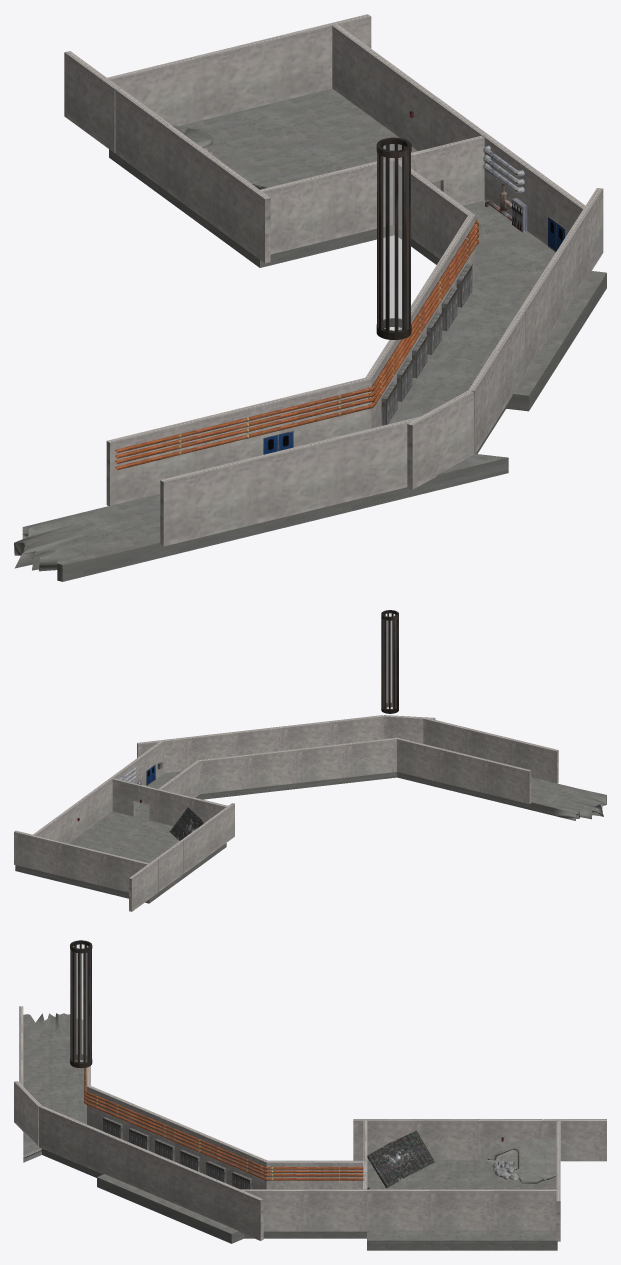
The model's file is ACT3 Map.fbx.
3 views of the same model, one above another, from view 1: azimuth 30°, elevation 25°; view 2: azimuth 150°, elevation 25°; view 3: azimuth 270°, elevation 25° (orthographic). The views are drawn at different scales.
Parts seen in each view (by area): view 1: corridorwall.023, corridor_floor.002, corridorwall.005, corridorwall.022, corridorwall.009, corridorwall.004, corridor_floor.011, Cylinder, corridorwall.006, corridorwall.035, corridor_floor.008, corridor_floor.005 (+19 smaller); view 2: corridorwall.020, corridorwall.022, corridor_floor.002, corridorwall.005, corridorwall.023, corridorwall.021, corridorwall.035, corridor_floor.011, corridorwall.006, corridorwall.004, Cylinder, corridorwall.009 (+10 smaller); view 3: corridor_floor.002, corridorwall.006, corridorwall.035, corridorwall.020, corridorwall.004, corridorwall.021, corridor_floor.010, Cylinder, corridorwall.034, corridorwall.015, corridor_floor.014, corridorwall.014 (+12 smaller).
Boxes of the visible parts, bbox=[...] form: corridorwall.023: bbox=[160, 416, 420, 546]; corridor_floor.002: bbox=[109, 88, 440, 267]; corridorwall.005: bbox=[107, 14, 371, 125]; corridorwall.022: bbox=[106, 378, 371, 505]; corridorwall.009: bbox=[260, 158, 394, 254]; corridorwall.004: bbox=[164, 124, 270, 263]; corridor_floor.011: bbox=[14, 506, 160, 581]; Cylinder: bbox=[376, 137, 411, 339]; corridorwall.006: bbox=[432, 97, 588, 245]; corridorwall.035: bbox=[519, 188, 603, 373]; corridor_floor.008: bbox=[381, 319, 506, 453]; corridor_floor.005: bbox=[398, 200, 555, 292]; corridorwall.020: bbox=[198, 737, 397, 794]; corridorwall.022: bbox=[397, 737, 531, 804]; corridor_floor.002: bbox=[15, 811, 226, 903]; corridorwall.005: bbox=[14, 830, 149, 892]; corridorwall.023: bbox=[423, 718, 558, 783]; corridorwall.021: bbox=[233, 715, 383, 755]; corridorwall.035: bbox=[137, 727, 278, 773]; corridor_floor.011: bbox=[531, 783, 606, 820]; corridorwall.006: bbox=[84, 741, 163, 829]; corridorwall.004: bbox=[181, 803, 234, 873]; Cylinder: bbox=[381, 610, 398, 713]; corridorwall.009: bbox=[157, 789, 227, 825]; corridor_floor.002: bbox=[367, 1160, 557, 1250]; corridorwall.006: bbox=[240, 1189, 430, 1231]; corridorwall.035: bbox=[126, 1142, 263, 1240]; corridorwall.020: bbox=[87, 1085, 267, 1189]; corridorwall.004: bbox=[353, 1119, 480, 1160]; corridorwall.021: bbox=[39, 1105, 176, 1182]; corridor_floor.010: bbox=[23, 1045, 86, 1124]; Cylinder: bbox=[70, 940, 92, 1068]; corridorwall.034: bbox=[431, 1189, 494, 1230]; corridorwall.015: bbox=[494, 1189, 557, 1230]; corridor_floor.014: bbox=[97, 1174, 243, 1243]; corridorwall.014: bbox=[543, 1119, 606, 1161].
Bounding box in the file's own units: 5474 × 2173 × 5921.
